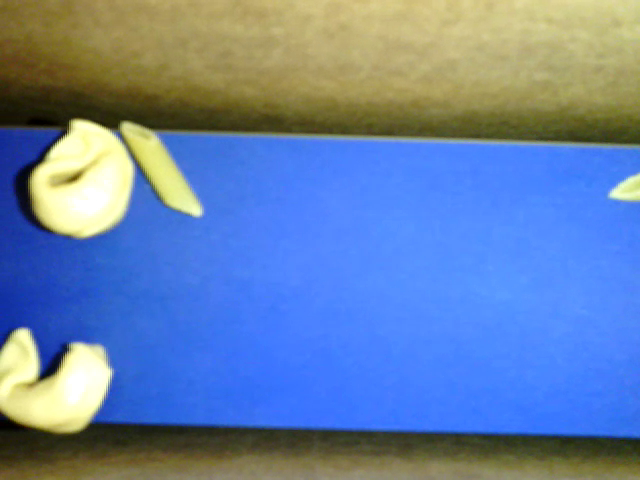penne: (118, 120, 203, 217)
tortellini: (28, 117, 135, 239), (1, 327, 113, 433)
